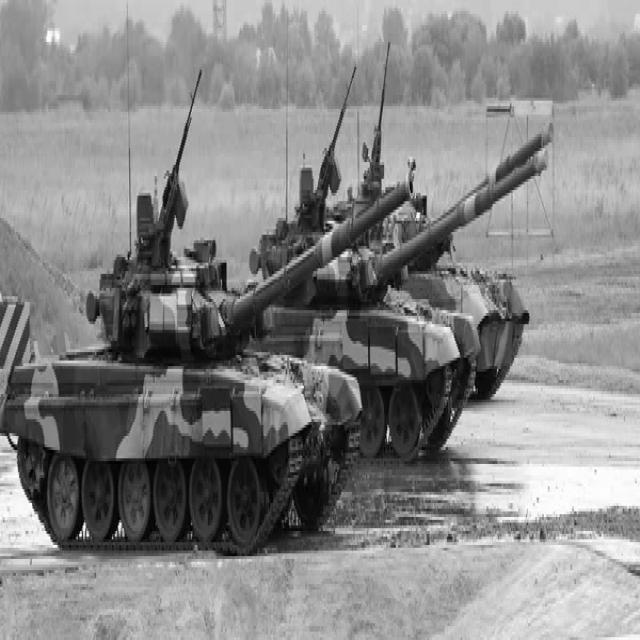Tank: (6, 129, 407, 555), (252, 157, 531, 459)
